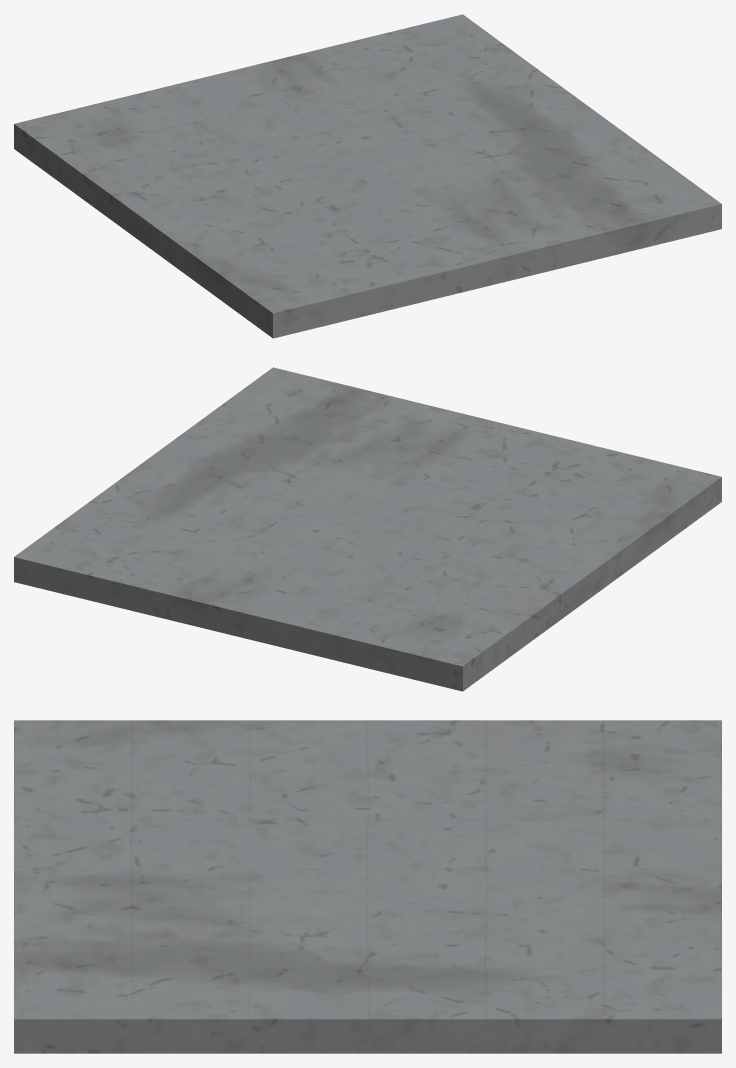
Rendered from target-pad.fbx.
The picture shows the model from 3 angles, top to bottom: view 1: azimuth 30°, elevation 25°; view 2: azimuth 150°, elevation 25°; view 3: azimuth 270°, elevation 25°; orthographic projection. The views are drawn at different scales.
Parts seen in each view (by area): view 1: target-pad; view 2: target-pad; view 3: target-pad.
Boxes of the visible parts, box(x1,y1,x2,y2) form: target-pad: box(14, 14, 721, 338); target-pad: box(14, 367, 721, 691); target-pad: box(14, 720, 721, 1053).
Size of the model in its own units: 150 by 8 by 150.
Materials: 1 (1 with a texture image).
